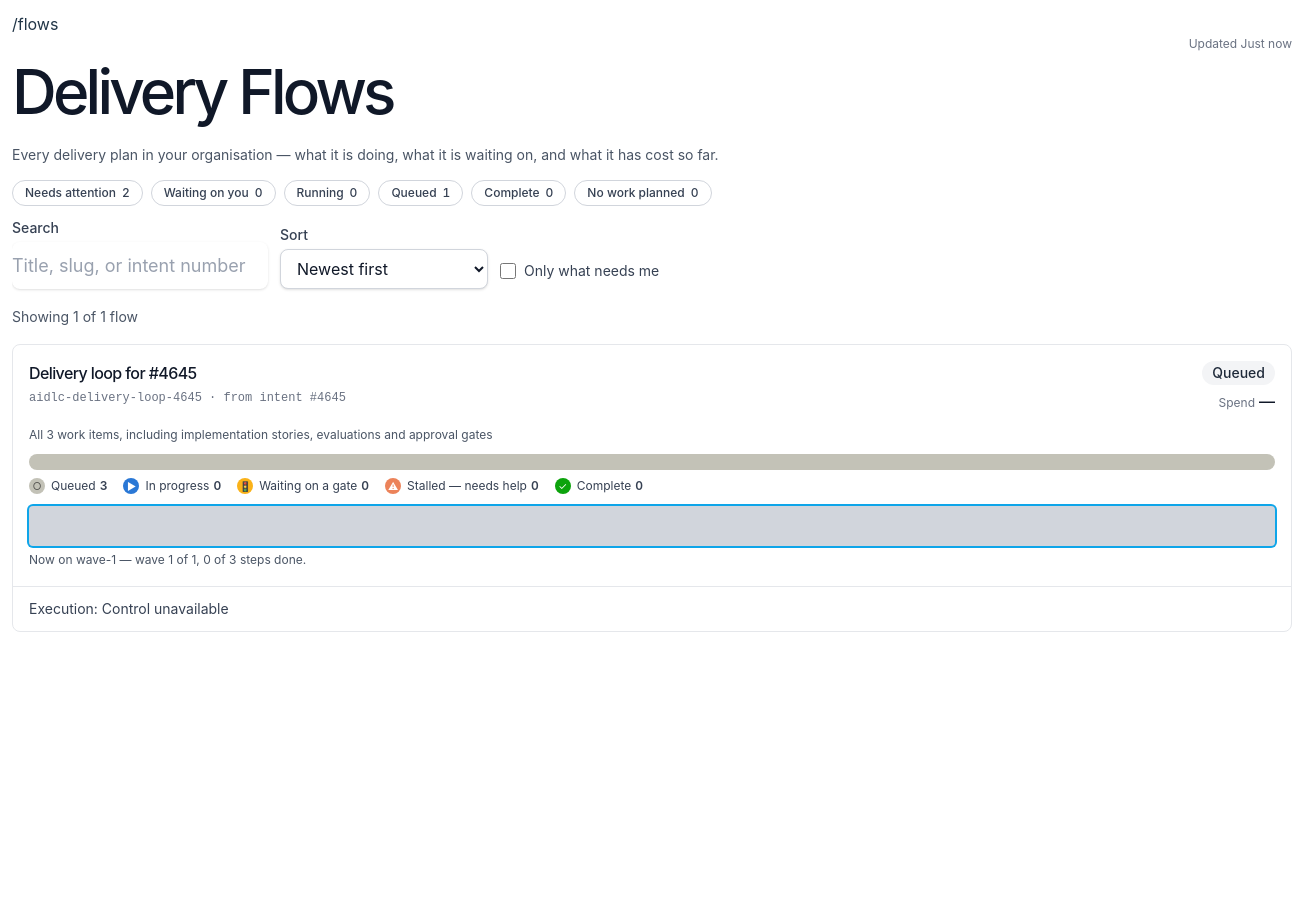
Scenario: filters live in the query string › writes a status chip selection into the URL
Expected: the list with test id "status-chips" is shown, [12,180,712,206]
Click the button with test id "status-chip-attention_needed": (77, 192) [12,180,143,206]
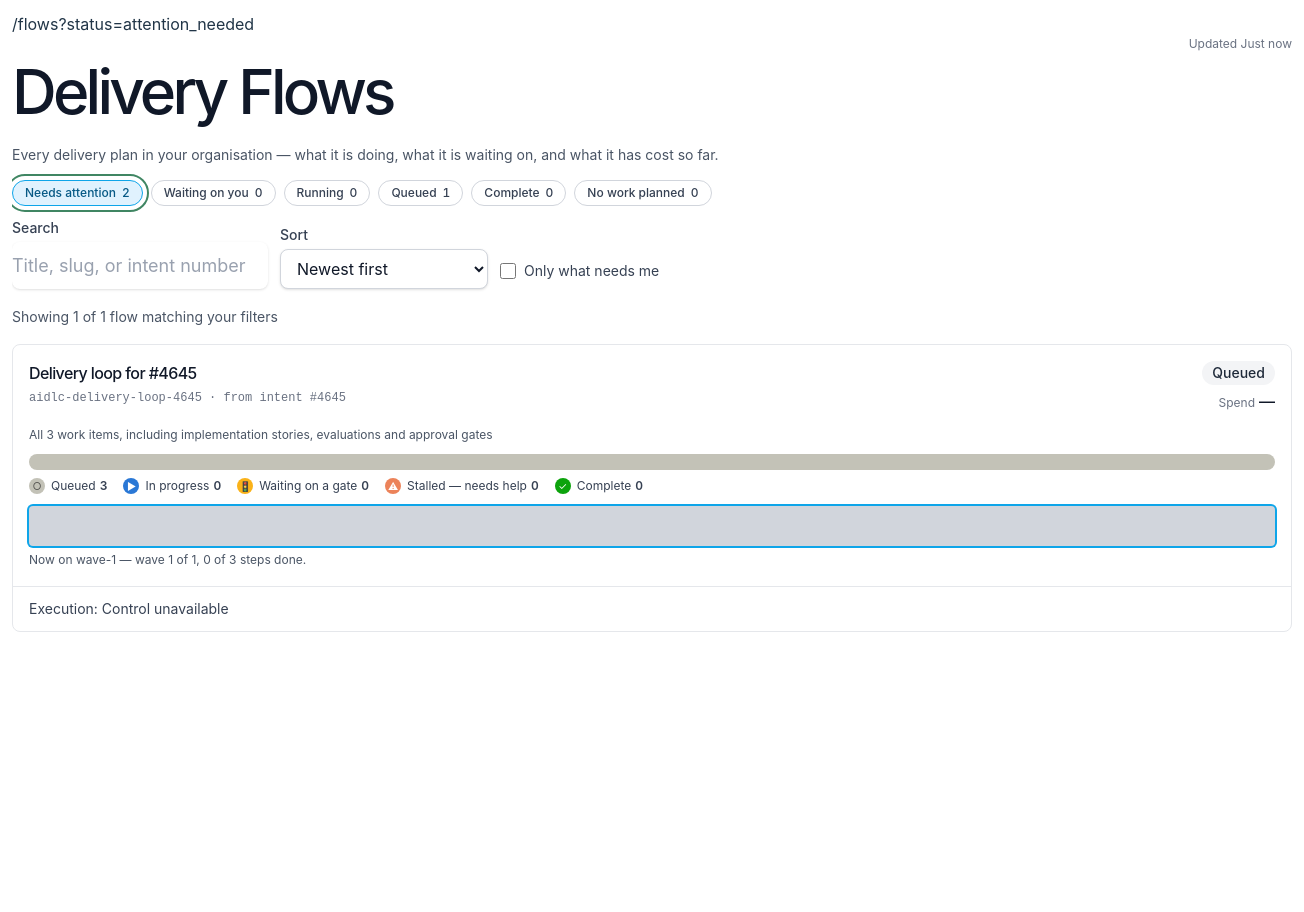
Now the text with test id "location" reads "/flows?status=attention_needed", box [12,14,254,34]
